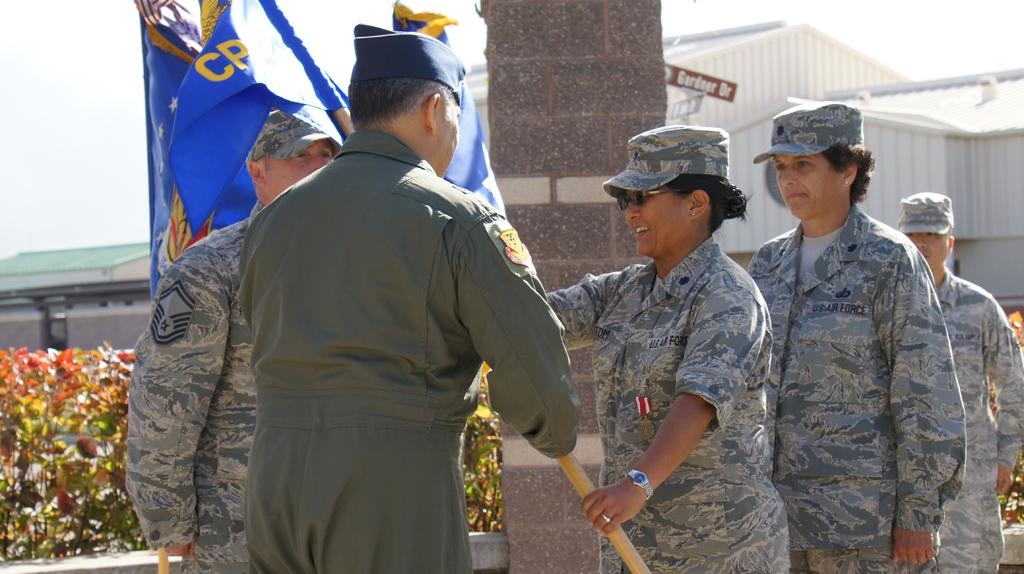Hat: (600, 126, 732, 200), (752, 102, 864, 166), (244, 109, 344, 162), (897, 190, 956, 231)
